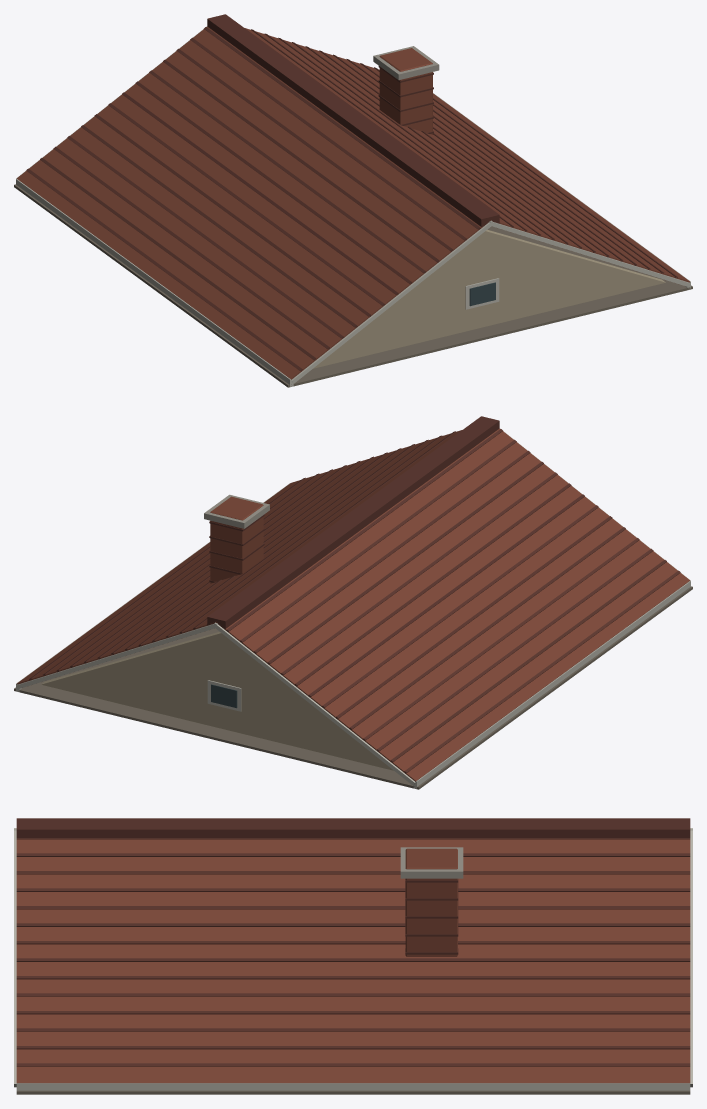
Rendered from house_roof_a.fbx.
3 views of the same model, one above another, from view 1: azimuth 30°, elevation 25°; view 2: azimuth 150°, elevation 25°; view 3: azimuth 270°, elevation 25° (orthographic). The views are drawn at different scales.
Visible parts, largest first — view 1: house_roof_a; view 2: house_roof_a; view 3: house_roof_a.
Boxes of the visible parts, bbox=[...] form: house_roof_a: bbox=[14, 14, 692, 387]; house_roof_a: bbox=[14, 416, 692, 789]; house_roof_a: bbox=[14, 818, 692, 1094].
Size of the model in its own units: 11 by 3.5 by 13.
